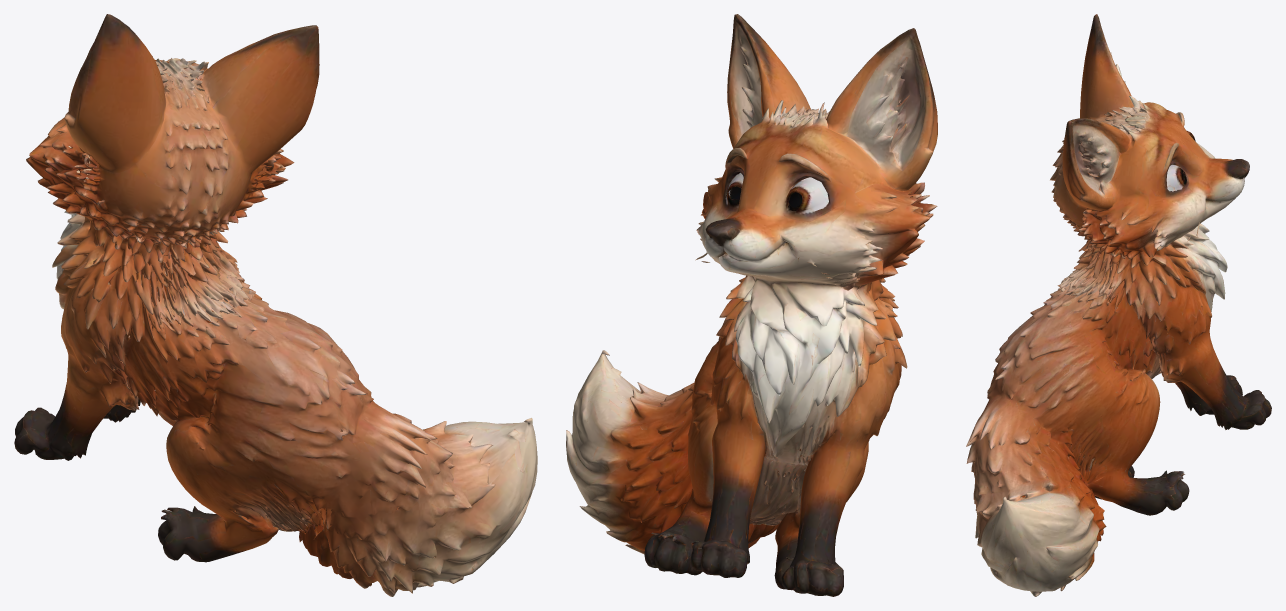
Rendered from pixal3d.glb.
The picture shows the model from 3 angles, left to right: view 1: azimuth 30°, elevation 25°; view 2: azimuth 150°, elevation 25°; view 3: azimuth 270°, elevation 25°; orthographic projection. The views are drawn at different scales.
Parts seen in each view (by area): view 1: world; view 2: world; view 3: world.
Part boxes in pixels (bbox=[...]): world: bbox=[14, 14, 537, 596]; world: bbox=[566, 14, 937, 596]; world: bbox=[966, 14, 1271, 596].
Bounding box in the file's own units: 0.6857 × 0.9479 × 0.5576.
1 material, 1 textured.
